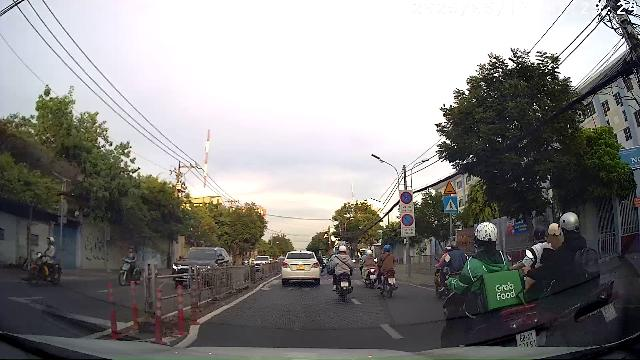130-cam-dung-va-do-xe: (400, 192, 412, 204)
131a-cam-do-xe: (401, 214, 414, 227)
423a-duong-nguoi-di-bo-sang-ngang-1: (444, 196, 458, 214)
